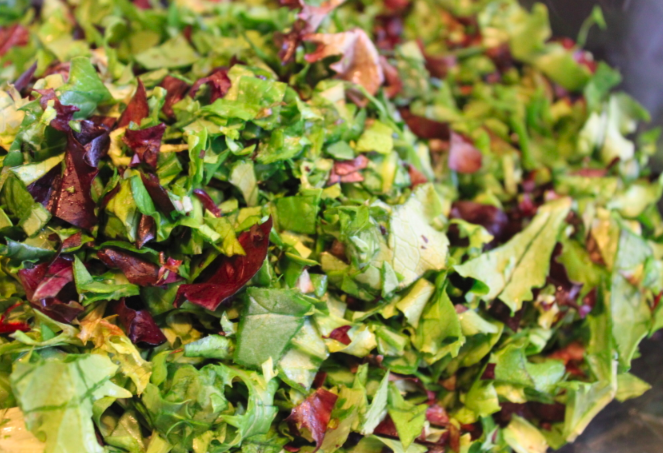chopped lettuce: (5, 6, 640, 415)
